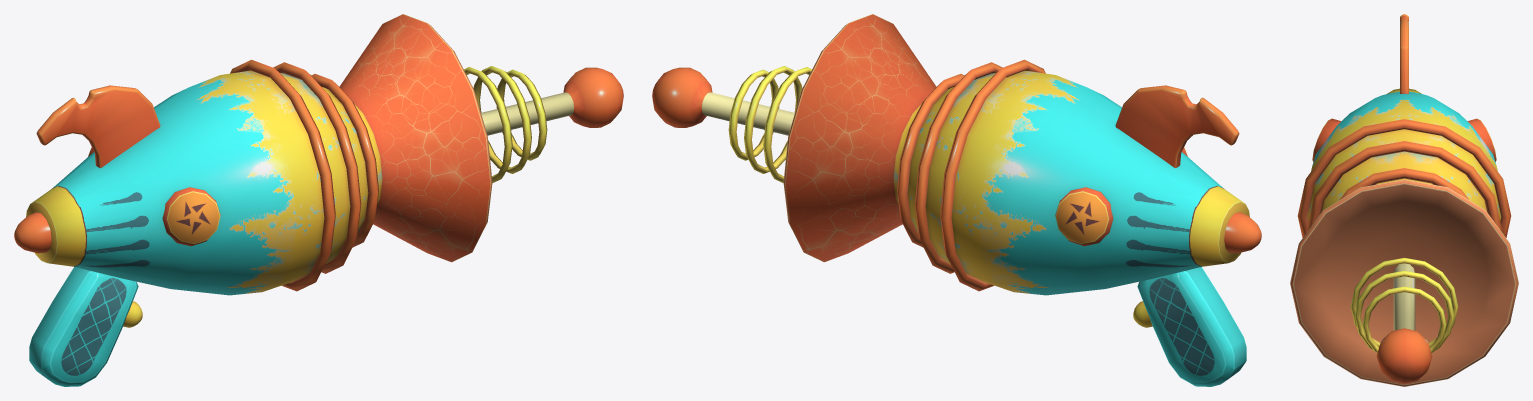
The model's file is gun_01.fbx.
3 renders of one model, left to right at view 1: azimuth 30°, elevation 25°; view 2: azimuth 150°, elevation 25°; view 3: azimuth 270°, elevation 25°, orthographic. The views are drawn at different scales.
Parts seen in each view (by area): view 1: gun_011; view 2: gun_011; view 3: gun_011.
Part boxes in pixels (x1,y1,x2,y2): gun_011: (14, 14, 623, 386); gun_011: (652, 14, 1261, 386); gun_011: (1290, 14, 1518, 386).
Size of the model in its own units: 283 by 128 by 103.
Materials: 1 (1 with a texture image).
